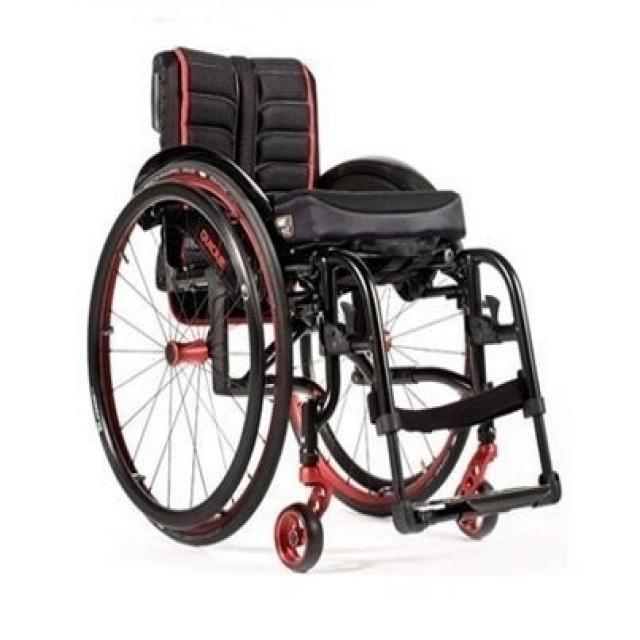wheelchair: (74, 32, 586, 584)
